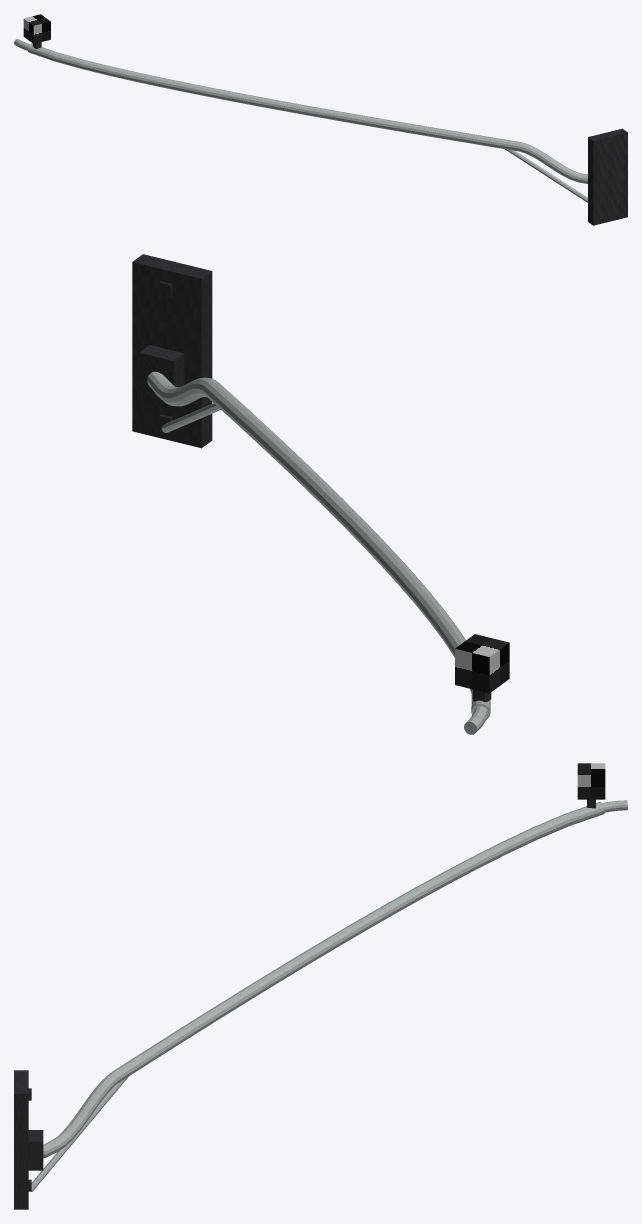
File: arm_5_left.obj
3 renders of one model, top to bottom at view 1: azimuth 30°, elevation 25°; view 2: azimuth 150°, elevation 25°; view 3: azimuth 270°, elevation 25°, orthographic. The views are drawn at different scales.
Visible parts, largest first — view 1: pole_light_mount_5_left; view 2: pole_light_mount_5_left; view 3: pole_light_mount_5_left.
Boxes of the visible parts, left/top/right/bottom form: pole_light_mount_5_left: left=14, top=14, right=627, bottom=225; pole_light_mount_5_left: left=132, top=254, right=509, bottom=734; pole_light_mount_5_left: left=14, top=763, right=627, bottom=1209.
Size of the model in its own units: 4.22 by 1.4 by 4.19.
